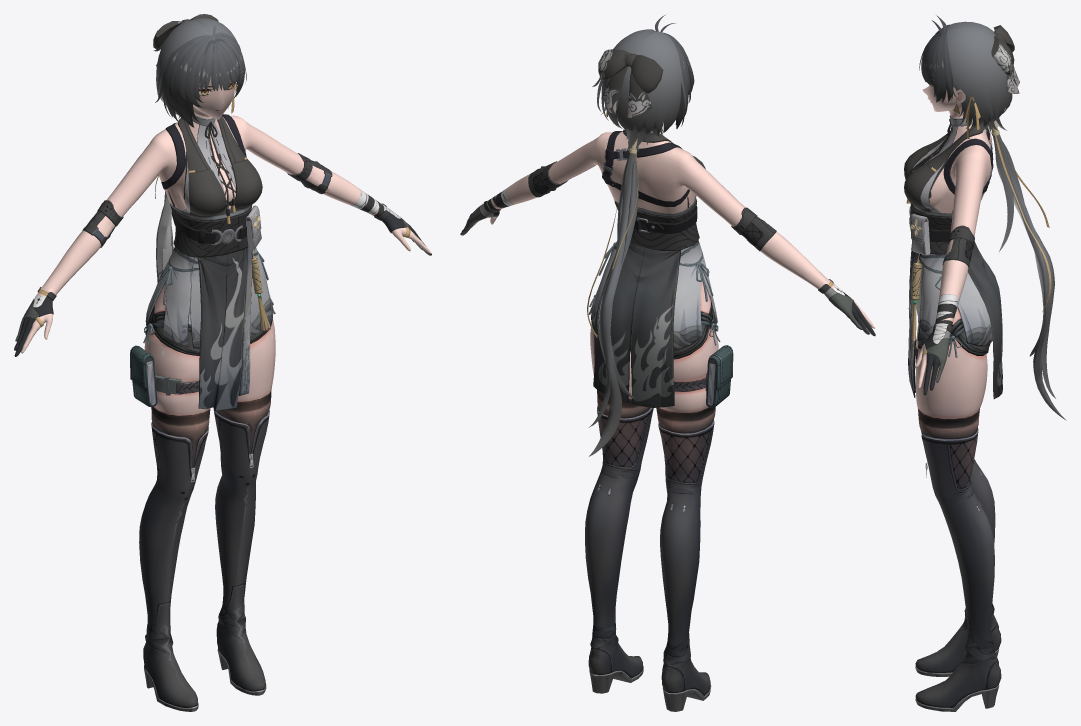
File: female-rover.glb
3 views of the same model, side by side, from view 1: azimuth 30°, elevation 25°; view 2: azimuth 150°, elevation 25°; view 3: azimuth 270°, elevation 25° (orthographic).
Visible parts, largest first — view 1: MI_Down_002_New_Material_Variant_Variant_Variant_Variant_Var, MI_Up_002, body, qian, body_2_New_Material_Variant_Variant_Variant_Variant_Variant_, object 29, object 30, object 35, face; view 2: MI_Down_002_New_Material_Variant_Variant_Variant_Variant_Var, body, hou, MI_Up_002, body_2_New_Material_Variant_Variant_Variant_Variant_Variant_, object 30, object 35, hudiejie, object 29; view 3: MI_Down_002_New_Material_Variant_Variant_Variant_Variant_Var, MI_Up_002, body, body_2_New_Material_Variant_Variant_Variant_Variant_Variant_, object 30, object 35, hou, object 29, hudiejie, qian, object 32, object 33 (+1 smaller).
Part boxes in pixels (bbox=[...]): MI_Down_002_New_Material_Variant_Variant_Variant_Variant_Var: bbox=[130, 247, 275, 711]; MI_Up_002: bbox=[14, 114, 431, 356]; body: bbox=[21, 105, 431, 353]; qian: bbox=[197, 247, 252, 411]; body_2_New_Material_Variant_Variant_Variant_Variant_Variant_: bbox=[144, 283, 275, 467]; object 29: bbox=[155, 25, 246, 127]; object 30: bbox=[153, 18, 237, 118]; object 35: bbox=[156, 191, 173, 282]; face: bbox=[193, 75, 234, 119]; MI_Down_002_New_Material_Variant_Variant_Variant_Variant_Var: bbox=[585, 240, 733, 711]; body: bbox=[471, 131, 874, 328]; hou: bbox=[593, 243, 680, 407]; MI_Up_002: bbox=[460, 129, 875, 336]; body_2_New_Material_Variant_Variant_Variant_Variant_Variant_: bbox=[590, 281, 718, 432]; object 30: bbox=[592, 29, 686, 151]; object 35: bbox=[588, 152, 638, 456]; hudiejie: bbox=[598, 49, 663, 118]; object 29: bbox=[655, 15, 694, 128]; MI_Down_002_New_Material_Variant_Variant_Variant_Variant_Var: bbox=[915, 254, 1001, 711]; MI_Up_002: bbox=[904, 115, 993, 395]; body: bbox=[912, 103, 992, 388]; body_2_New_Material_Variant_Variant_Variant_Variant_Variant_: bbox=[915, 303, 990, 438]; object 30: bbox=[946, 21, 1012, 132]; object 35: bbox=[993, 134, 1066, 420]; hou: bbox=[968, 241, 1002, 398]; object 29: bbox=[919, 15, 956, 102]; hudiejie: bbox=[991, 25, 1019, 93]; qian: bbox=[908, 244, 921, 397]; object 32: bbox=[995, 135, 1051, 311]; object 33: bbox=[911, 253, 921, 341].
Size of the model in its own units: 2.68 by 4.14 by 0.9102.
16 materials, 7 textured.
